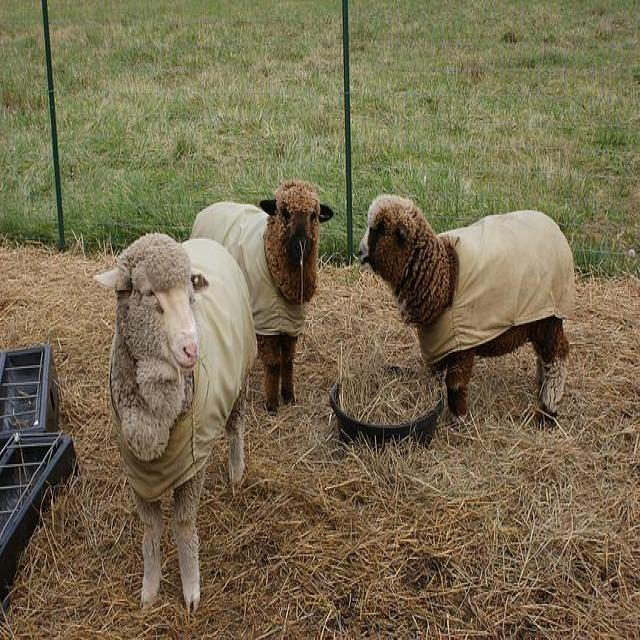Sheep: (94, 231, 258, 610), (359, 195, 578, 425), (194, 183, 337, 412)
